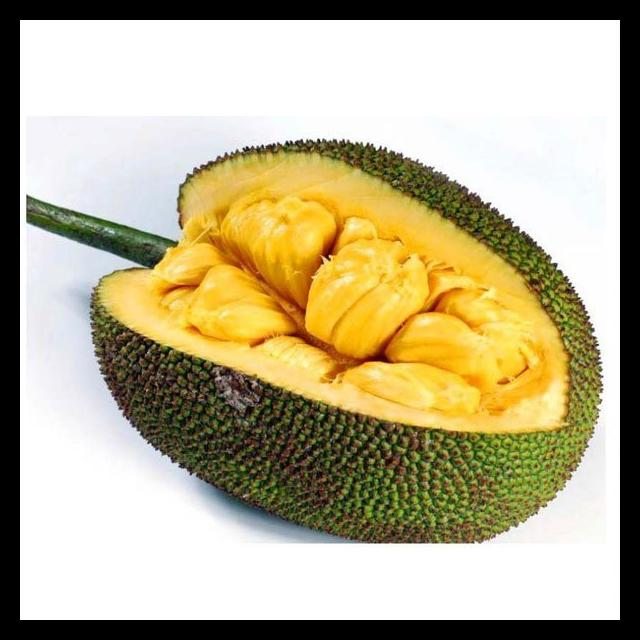mit: (91, 133, 602, 544)
